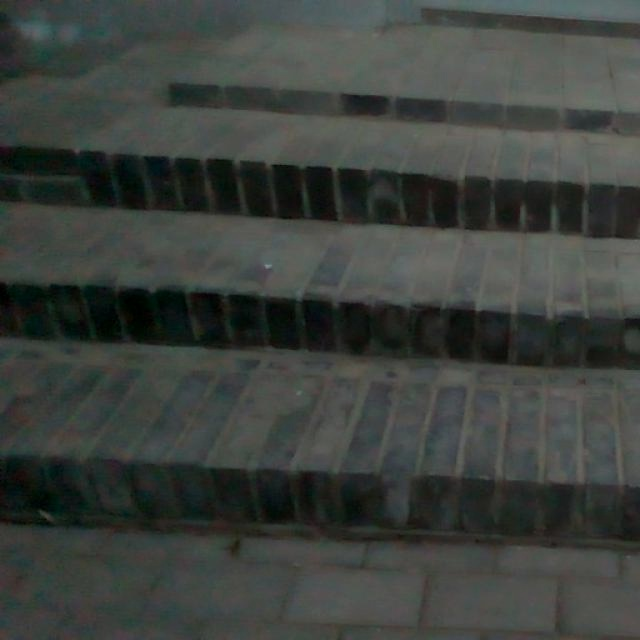stair: (24, 33, 628, 534)
